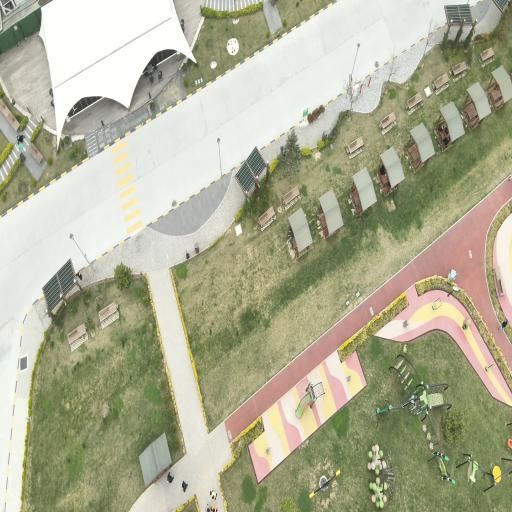person: (500, 319, 508, 330), (210, 490, 217, 500), (167, 473, 173, 483), (182, 481, 187, 492), (77, 272, 82, 281), (212, 505, 218, 511), (186, 252, 189, 259)
